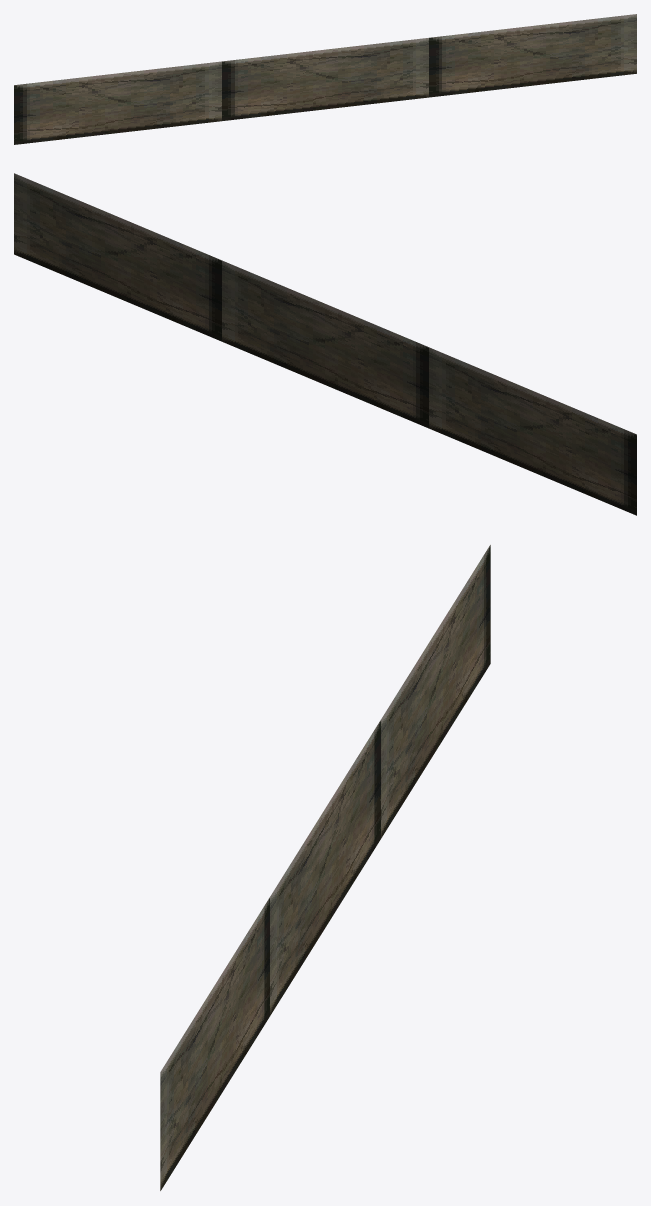
The model's file is CH09_SMAUG_PLAYSURFACE_LAIR121.fbx.
3 views of the same model, one above another, from view 1: azimuth 30°, elevation 25°; view 2: azimuth 150°, elevation 25°; view 3: azimuth 270°, elevation 25° (orthographic). The views are drawn at different scales.
Visible parts, largest first — view 1: CH09_SMAUG_PLAYSURFACE_LAIR121; view 2: CH09_SMAUG_PLAYSURFACE_LAIR121; view 3: CH09_SMAUG_PLAYSURFACE_LAIR121.
Boxes of the visible parts, x1,y1,x2,y2 form: CH09_SMAUG_PLAYSURFACE_LAIR121: [14, 14, 636, 144]; CH09_SMAUG_PLAYSURFACE_LAIR121: [14, 173, 636, 515]; CH09_SMAUG_PLAYSURFACE_LAIR121: [160, 545, 490, 1190].
Bounding box in the file's own units: 57771 × 6127 × 15287.
Materials: 1 (1 with a texture image).
